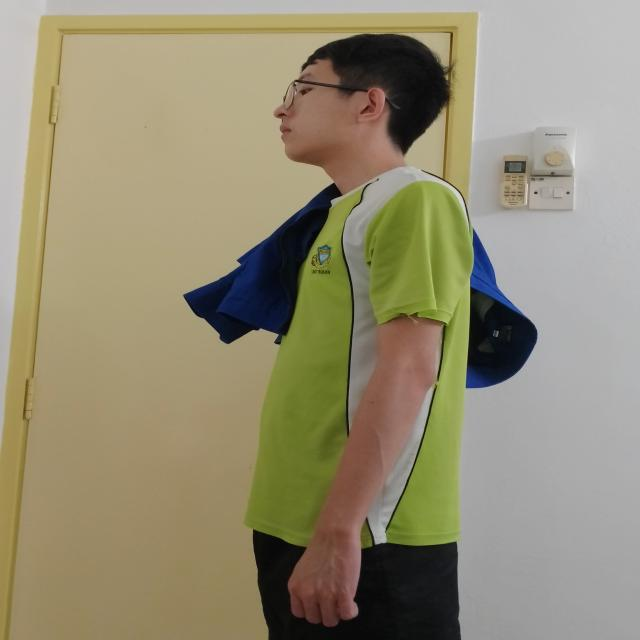person_without_labcoat: (184, 34, 536, 640)
